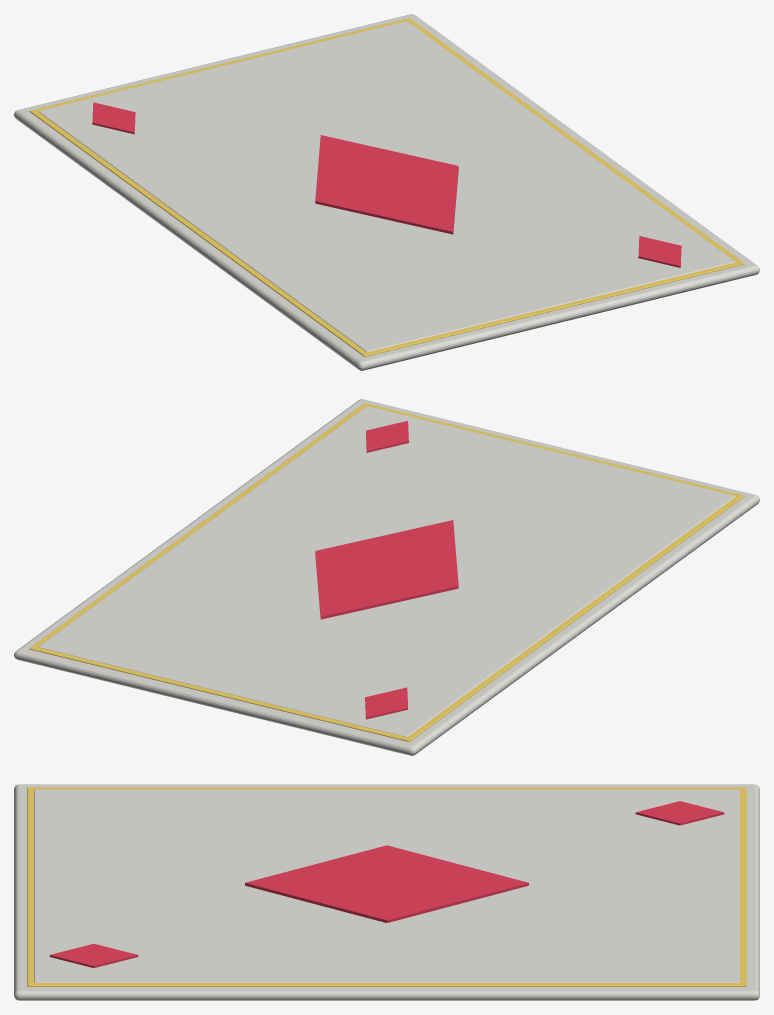
The model's file is card.glb.
3 views of the same model, one above another, from view 1: azimuth 30°, elevation 25°; view 2: azimuth 150°, elevation 25°; view 3: azimuth 270°, elevation 25° (orthographic). The views are drawn at different scales.
Parts seen in each view (by area): view 1: card_edge_in, card, diamond, card_edge, pip, pip.001; view 2: card_edge_in, card, diamond, card_edge, pip, pip.001; view 3: card_edge_in, card, diamond, card_edge, pip, pip.001.
Part boxes in pixels (left/top/right/bottom): card_edge_in: left=38, top=21, right=735, bottom=352; card: left=14, top=14, right=759, bottom=370; diamond: left=315, top=135, right=458, bottom=234; card_edge: left=29, top=18, right=744, bottom=356; pip: left=92, top=102, right=135, bottom=134; pip.001: left=638, top=236, right=681, bottom=267; card_edge_in: left=38, top=406, right=735, bottom=737; card: left=14, top=399, right=759, bottom=755; diamond: left=315, top=520, right=458, bottom=619; card_edge: left=29, top=403, right=744, bottom=741; pip: left=365, top=687, right=407, bottom=719; pip.001: left=366, top=421, right=408, bottom=452; card_edge_in: left=34, top=789, right=739, bottom=982; card: left=14, top=784, right=759, bottom=1000; diamond: left=245, top=845, right=528, bottom=922; card_edge: left=27, top=787, right=746, bottom=986; pip: left=635, top=801, right=724, bottom=825; pip.001: left=49, top=943, right=138, bottom=967.
Size of the model in its own units: 0.56 by 0.018 by 0.84.
